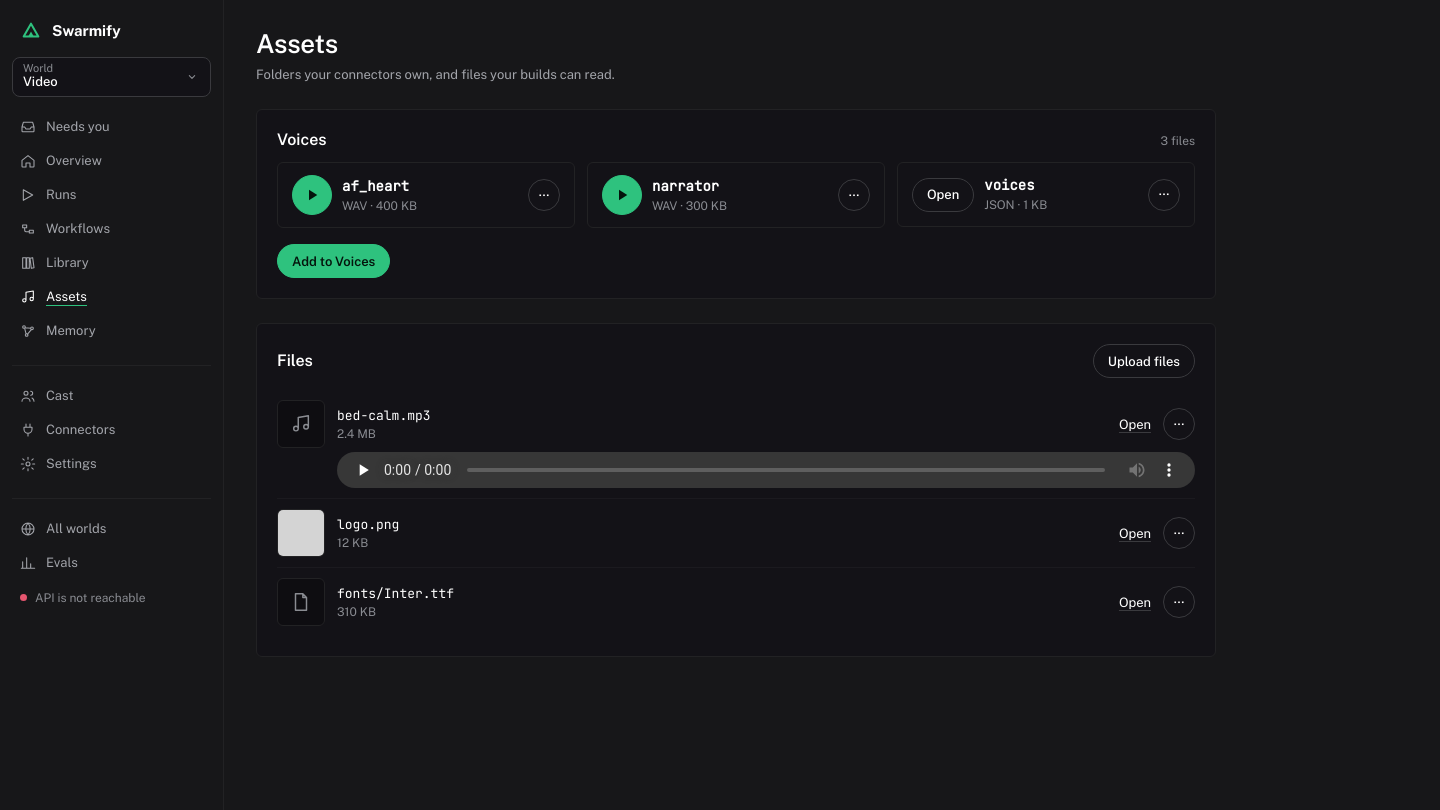
Test: files are renamed and deleted with a confirm; an empty folder says what goes there
This screenshot has width=1440, height=810.
Click the button "···" in the row of "logo.png" at (1179, 534), box [1163, 518, 1195, 550]
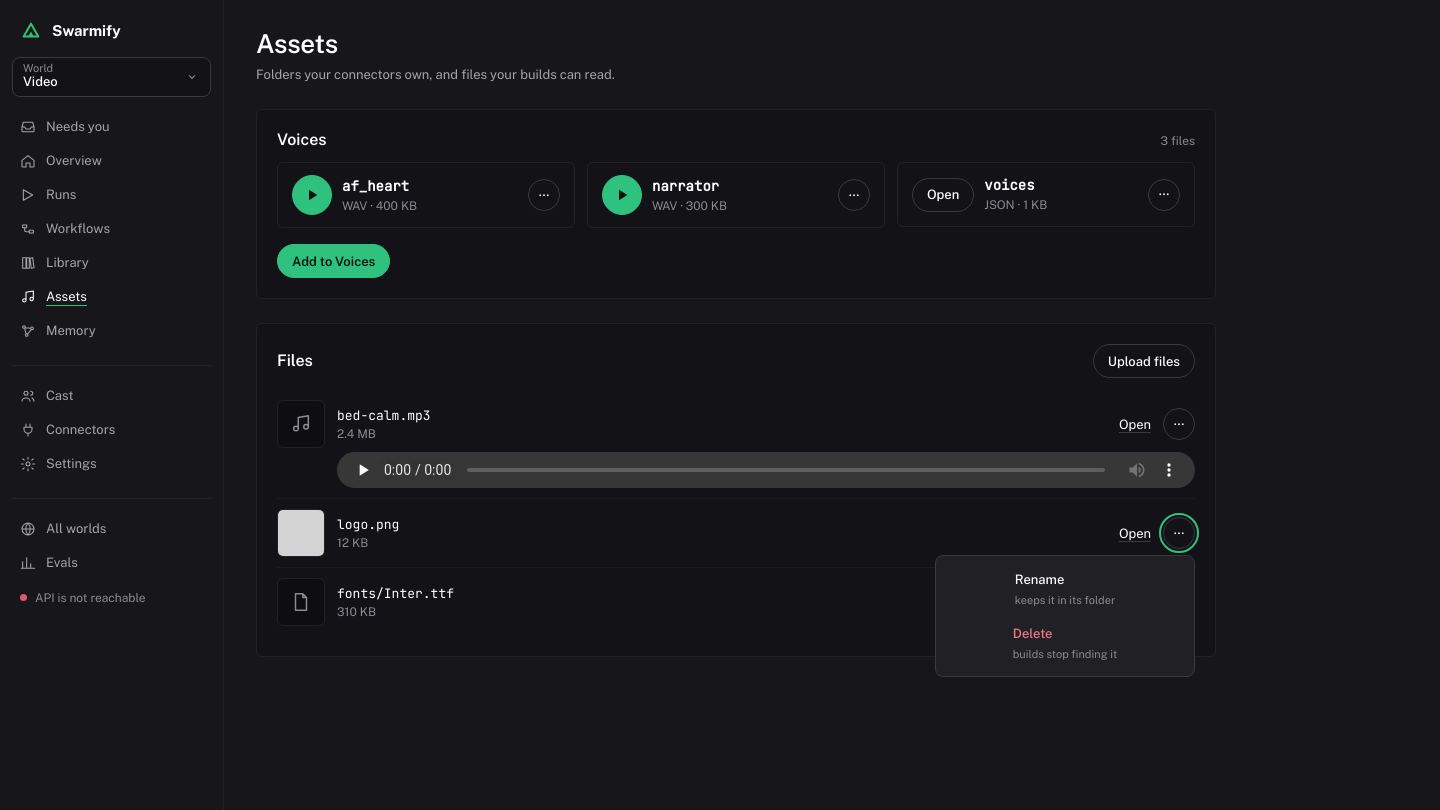
Click the menu item "Rename keeps it in its folder" at (1065, 590), box [942, 562, 1188, 616]
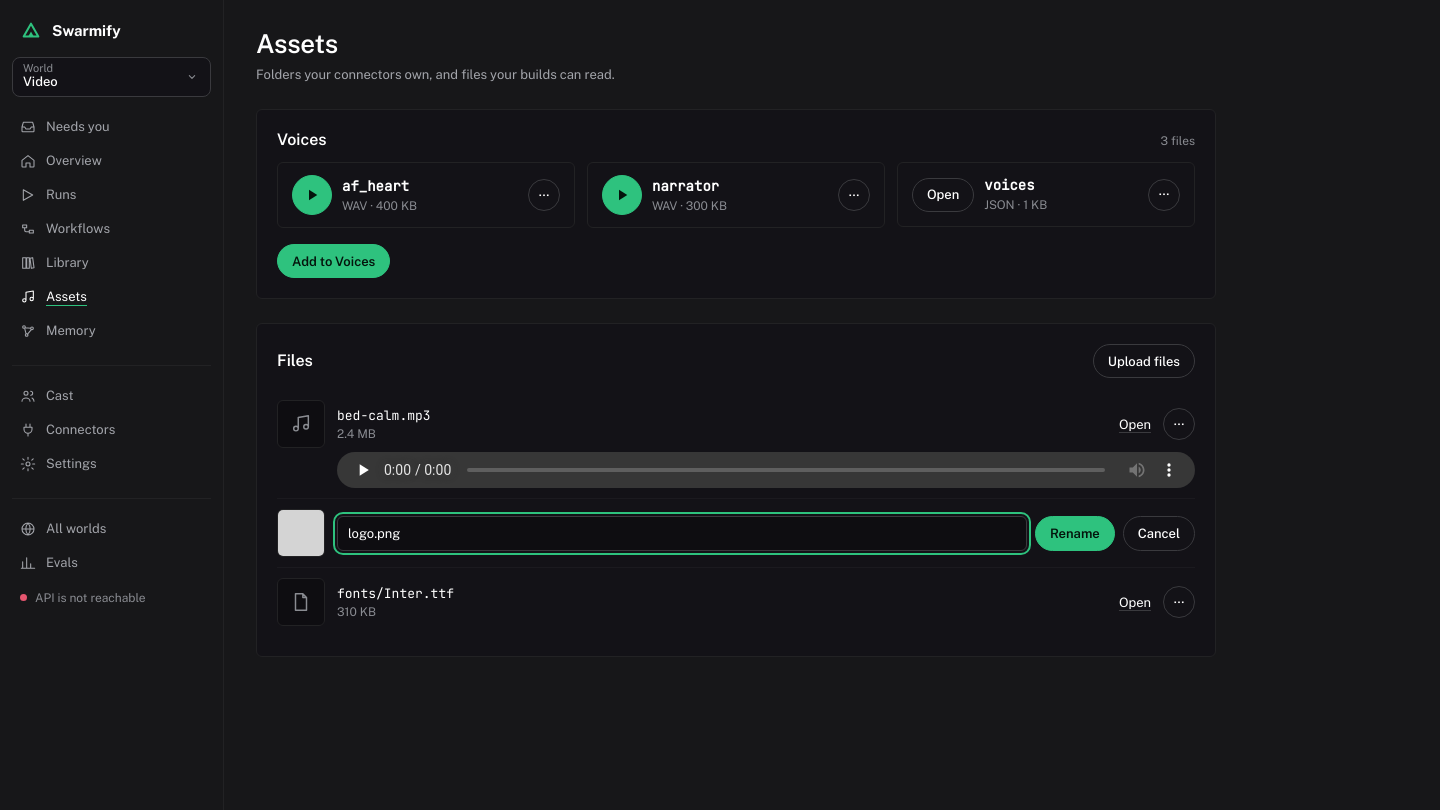
Replace the text in the field named "New name for logo.png" with "brand.png" at (682, 533), box [337, 516, 1027, 551]
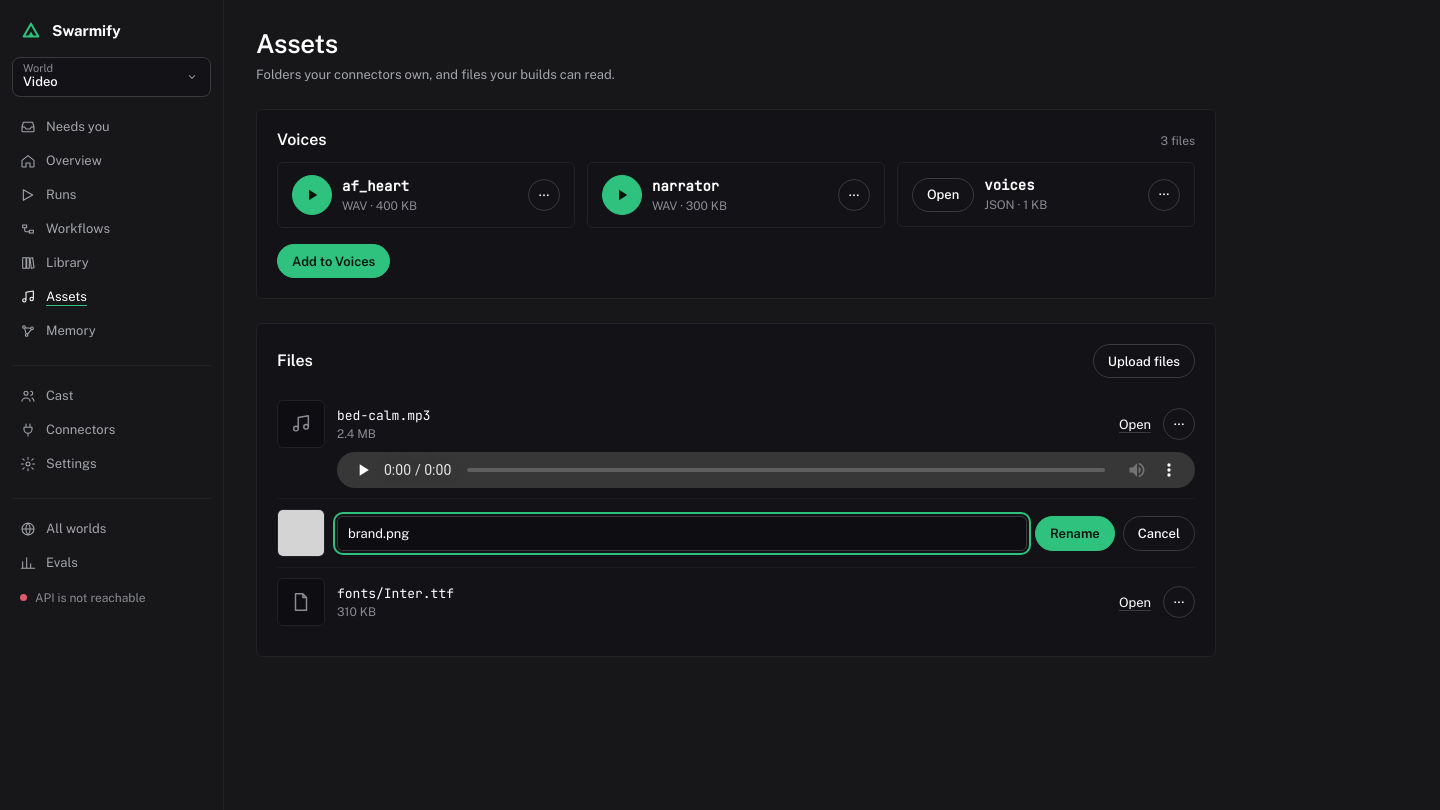
Click the button "Rename" at (1075, 533), box [1035, 516, 1115, 551]
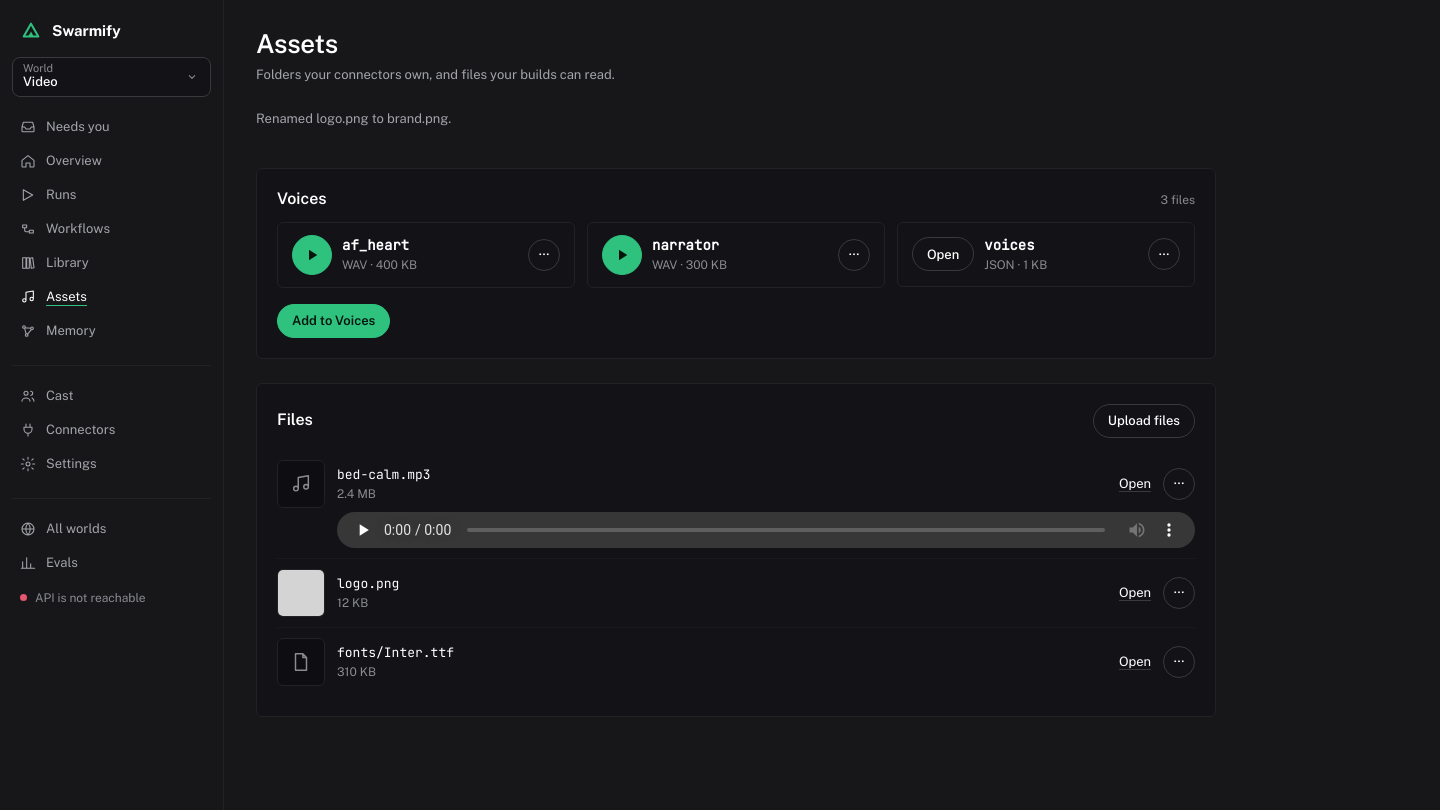
Now the message reads "Renamed logo.png to brand.png.", box [256, 111, 451, 126]
Click the button "···" in the row of "bed-calm.mp3" at (1179, 484), box [1163, 468, 1195, 500]
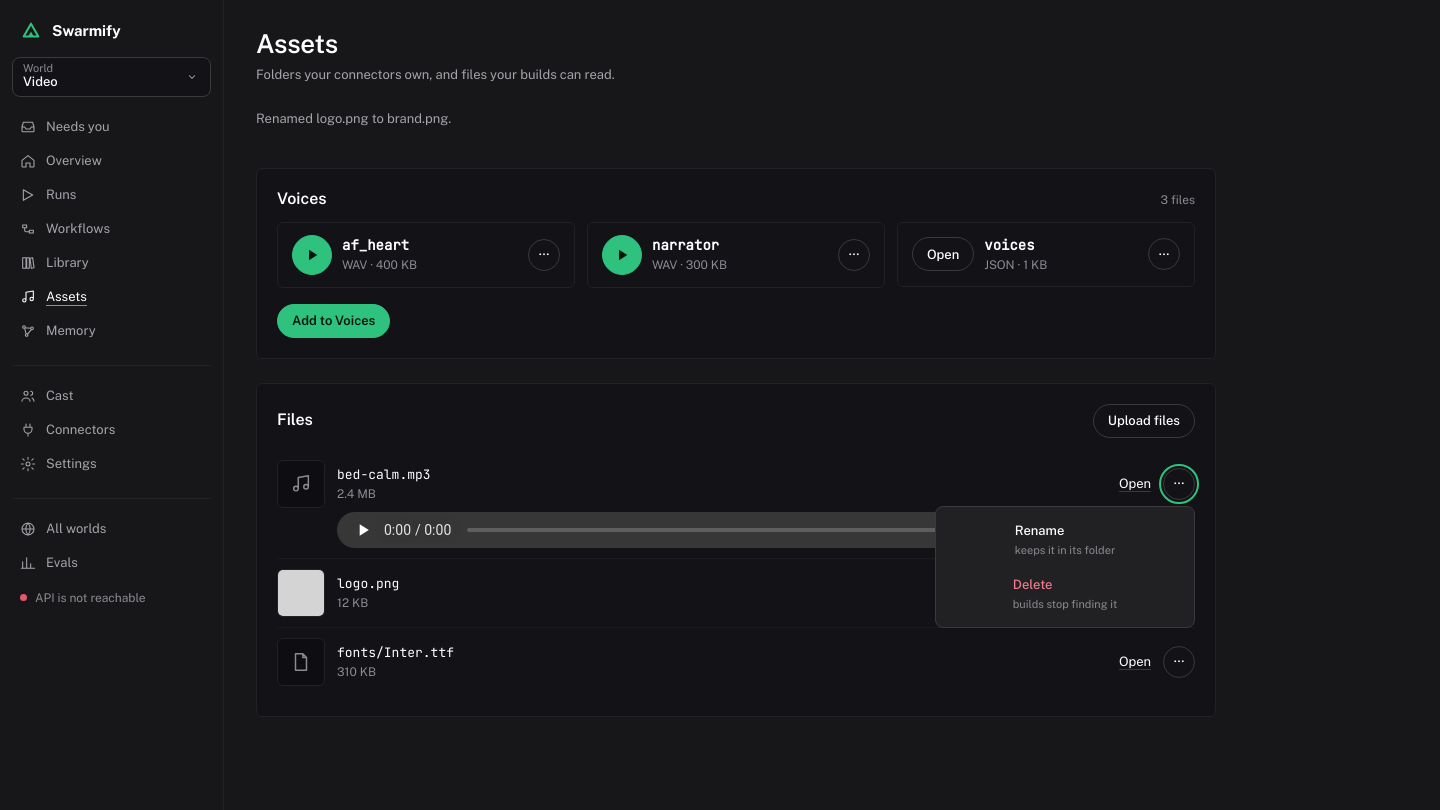
Click the menu item "Delete builds stop finding it" at (1065, 594), box [942, 567, 1188, 621]
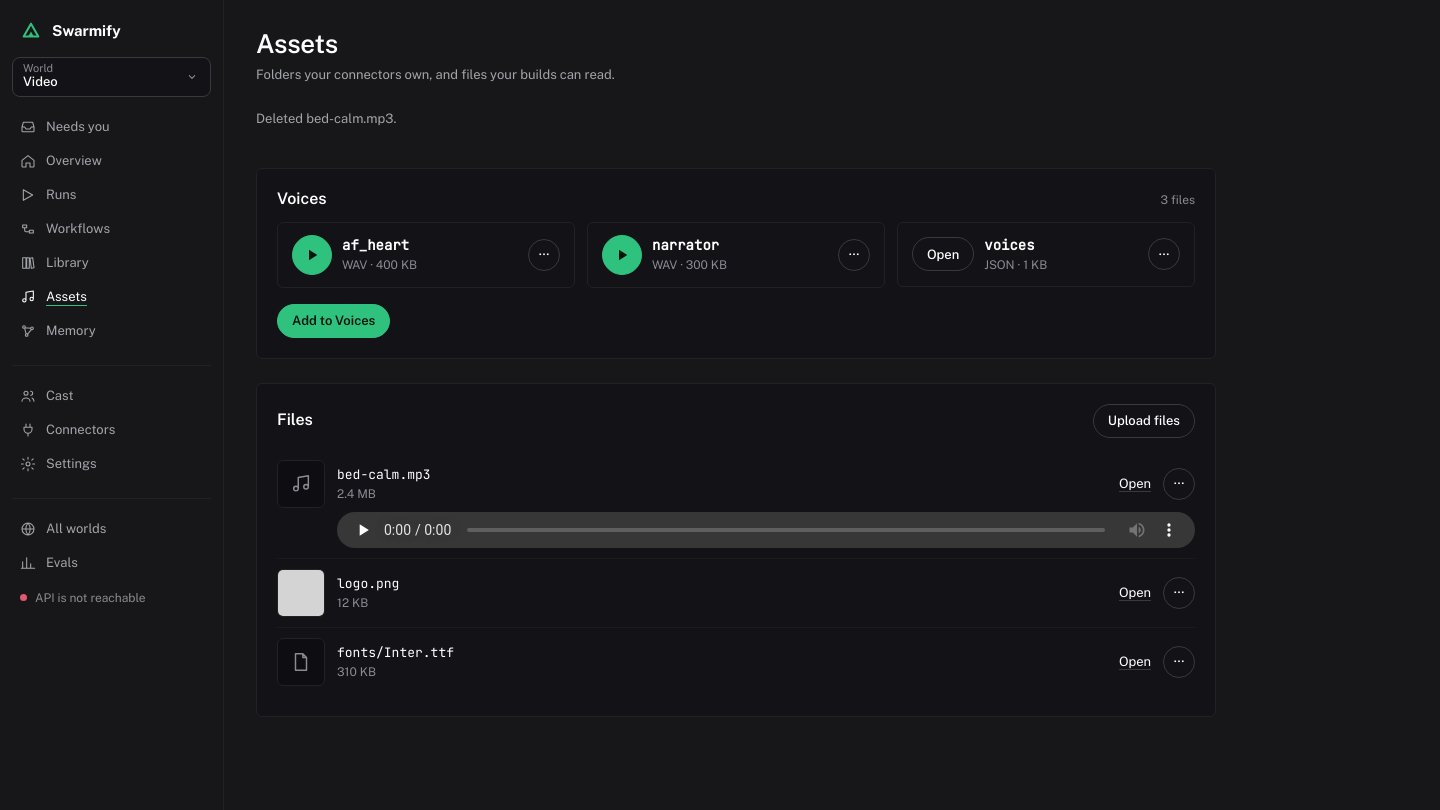
Now the message reads "Deleted bed-calm.mp3.", box [256, 111, 396, 126]
